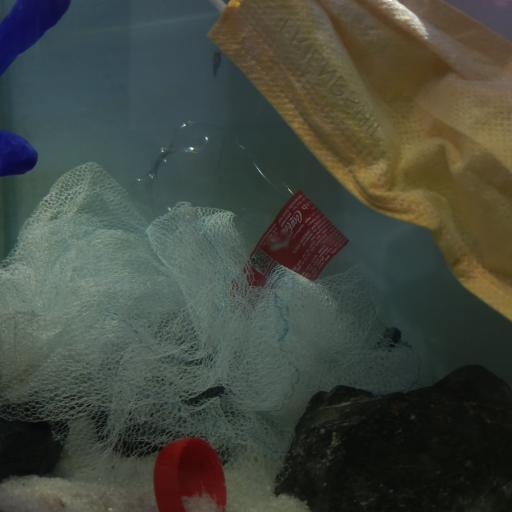bottle_cap: (153, 435, 227, 512)
glove: (2, 0, 71, 176)
mask: (212, 4, 512, 327)
net: (0, 160, 419, 470)
plastic_bottle: (132, 119, 417, 359)
